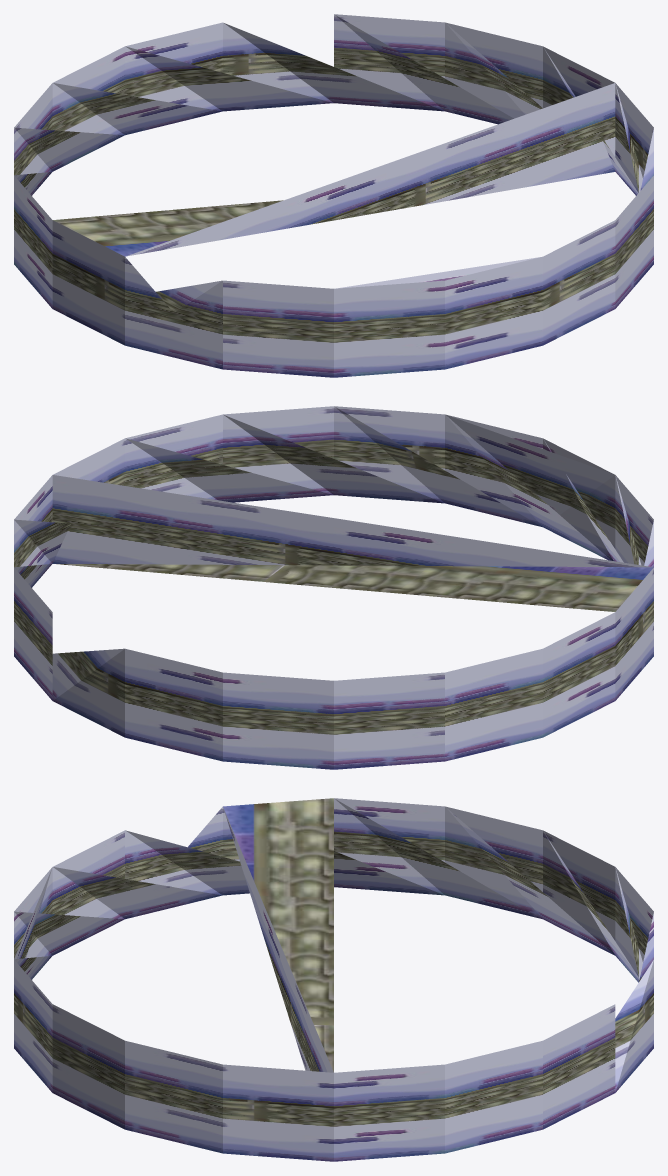
The model's file is actor.obj.
3 views of the same model, one above another, from view 1: azimuth 30°, elevation 25°; view 2: azimuth 150°, elevation 25°; view 3: azimuth 270°, elevation 25° (orthographic).
Visible parts, largest first — view 1: actor; view 2: actor; view 3: actor.
Boxes of the visible parts, <box> form: actor: <box>14,14,653,377</box>; actor: <box>14,406,653,769</box>; actor: <box>14,798,653,1161</box>.
Size of the model in its own units: 52.29 by 7.9 by 51.5.
Materials: 1 (1 with a texture image).
